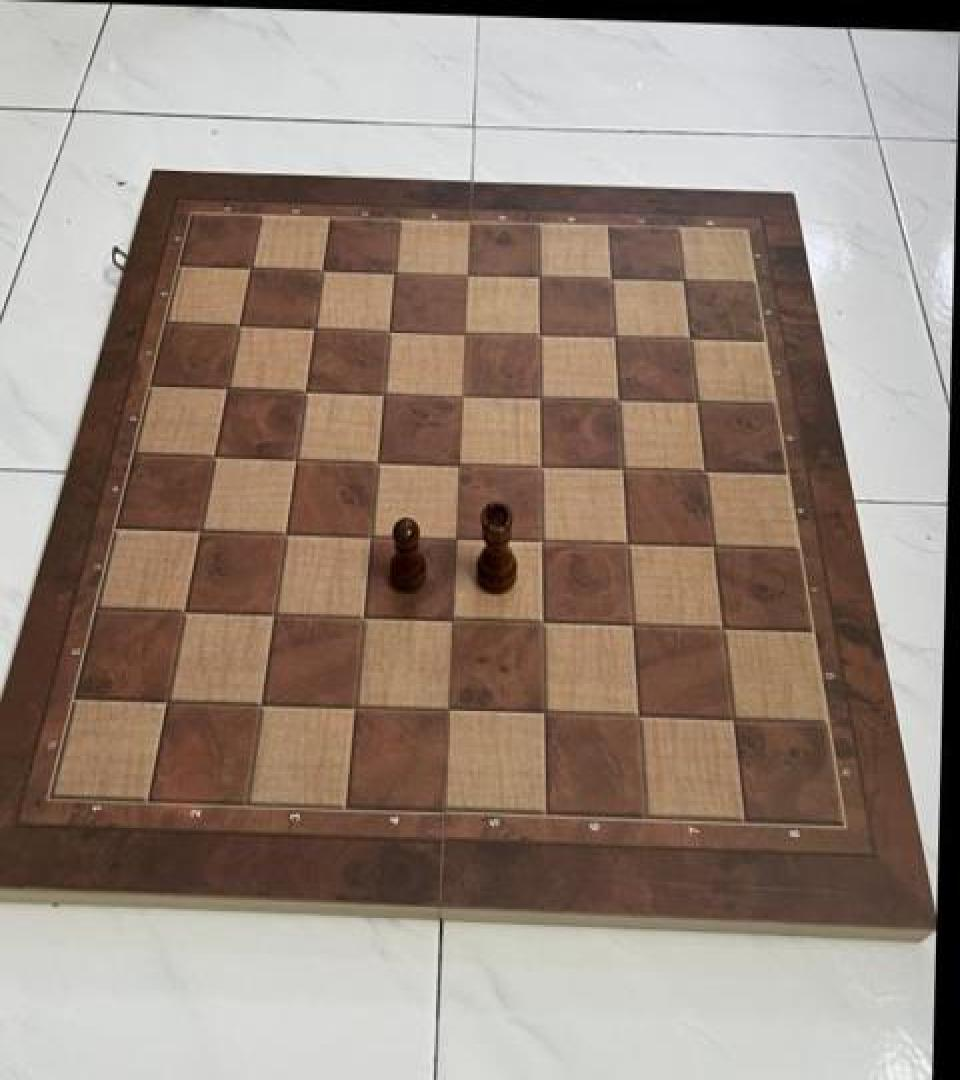xcorner: (611, 608, 643, 645), (616, 698, 648, 735), (335, 688, 367, 725), (665, 262, 697, 298), (593, 260, 625, 296), (520, 258, 552, 294), (448, 256, 480, 292), (376, 254, 408, 290), (304, 252, 336, 288), (233, 250, 265, 286), (671, 322, 703, 358), (596, 318, 628, 354), (521, 316, 553, 352), (446, 314, 478, 350), (371, 312, 403, 348), (296, 310, 328, 346), (221, 307, 253, 343), (678, 385, 710, 421), (599, 382, 631, 418), (521, 379, 553, 415), (443, 377, 475, 413), (365, 374, 397, 410), (287, 372, 319, 408), (209, 369, 241, 405), (685, 454, 717, 490), (603, 451, 635, 487), (521, 448, 553, 484), (358, 443, 390, 479), (277, 440, 309, 476), (196, 438, 228, 474), (693, 529, 725, 565), (607, 526, 639, 562), (521, 523, 553, 559), (436, 520, 468, 556), (351, 518, 383, 554), (266, 514, 298, 550), (182, 511, 214, 547), (701, 612, 733, 648), (522, 605, 554, 641), (432, 602, 464, 638), (343, 598, 375, 634), (254, 595, 286, 631), (166, 592, 198, 628), (710, 702, 742, 738), (522, 695, 554, 731), (428, 692, 460, 728), (241, 684, 273, 720), (149, 680, 181, 716), (440, 446, 472, 481)
